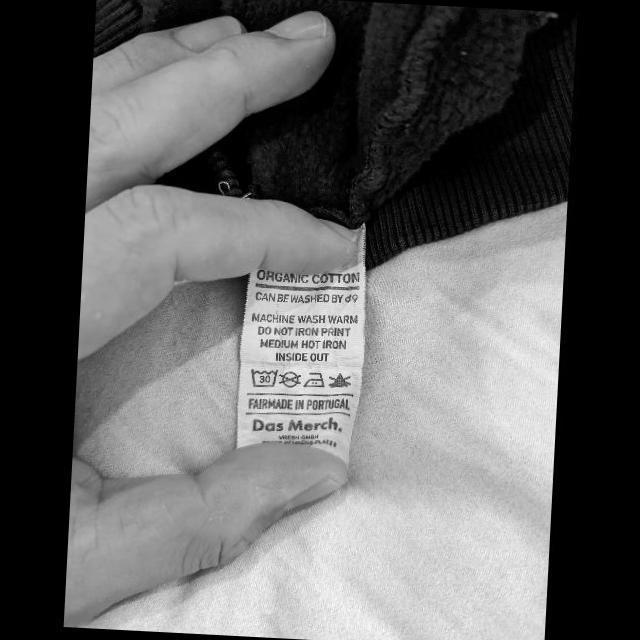30C: (248, 366, 278, 389)
DN_bleach: (328, 371, 352, 389)
DN_dry_clean: (277, 370, 303, 389)
iron_medium: (302, 371, 326, 389)
